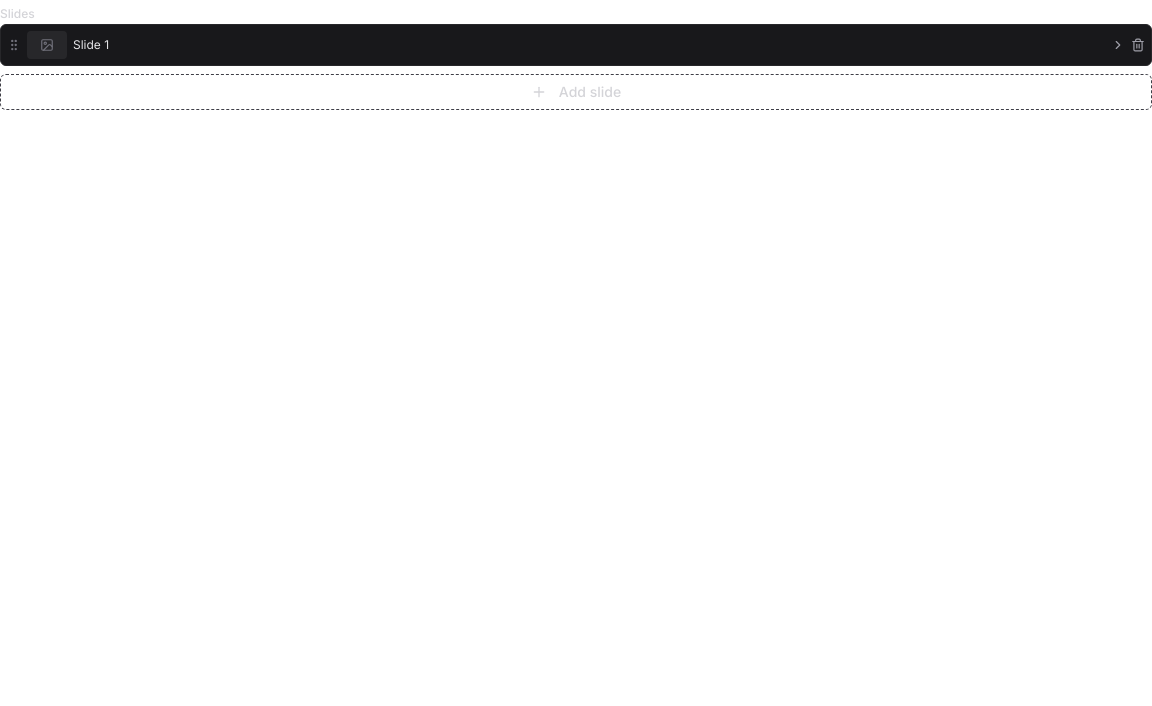
Scenario: <SlideshowImagesEditor> — collapsed row UI › clicking the toggle expands the row to reveal the per-slide fields
What coordinates should you click on to do the following:
click the button with test id "slides-0-toggle"
I would click on:
 (1118, 45)
Its box is 1111,38 -> 1125,52.
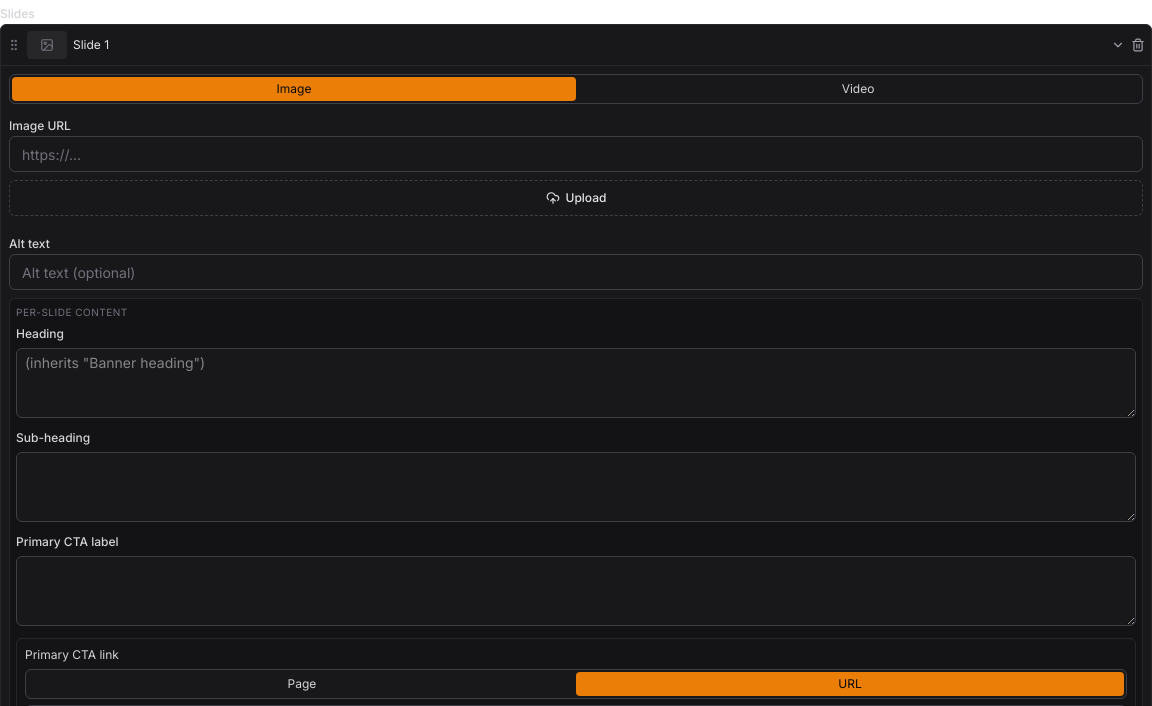
Expected: the field with test id "slides-0-src-url" is shown, 9,136 -> 1143,172
Expected: the field with test id "slides-0-alt" is shown, 9,254 -> 1143,290
